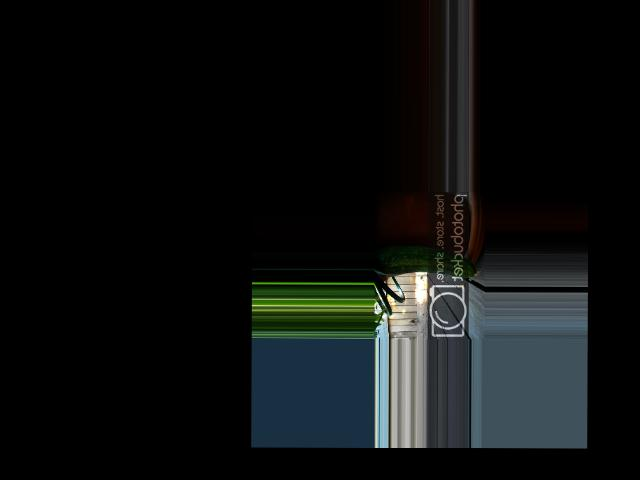cucumber: (374, 246, 480, 278)
